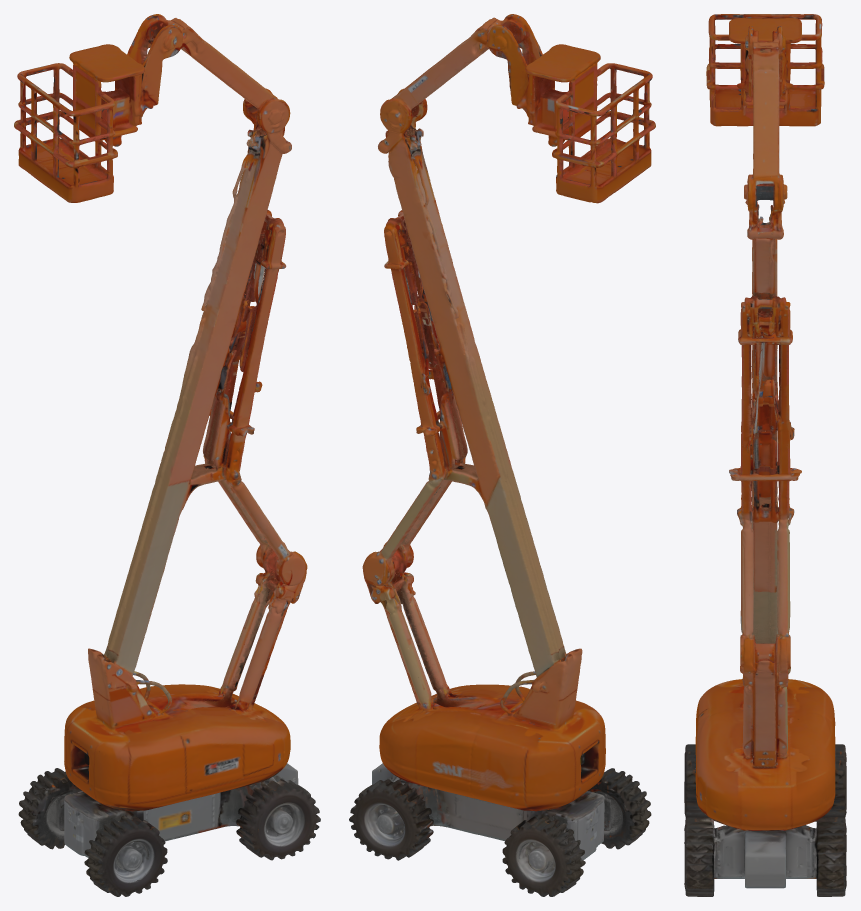
The model's file is telescopic_boom_lift_high_resolution_texture_fbx.glb.
3 views of the same model, side by side, from view 1: azimuth 30°, elevation 25°; view 2: azimuth 150°, elevation 25°; view 3: azimuth 270°, elevation 25° (orthographic).
Visible parts, largest first — view 1: input; view 2: input; view 3: input.
Boxes of the visible parts, x1,y1,x2,y2 form: input: [14, 14, 320, 896]; input: [349, 14, 655, 896]; input: [684, 14, 846, 896].
Size of the model in its own units: 0.6164 by 1.9 by 0.3404.
Materials: 1 (1 with a texture image).
